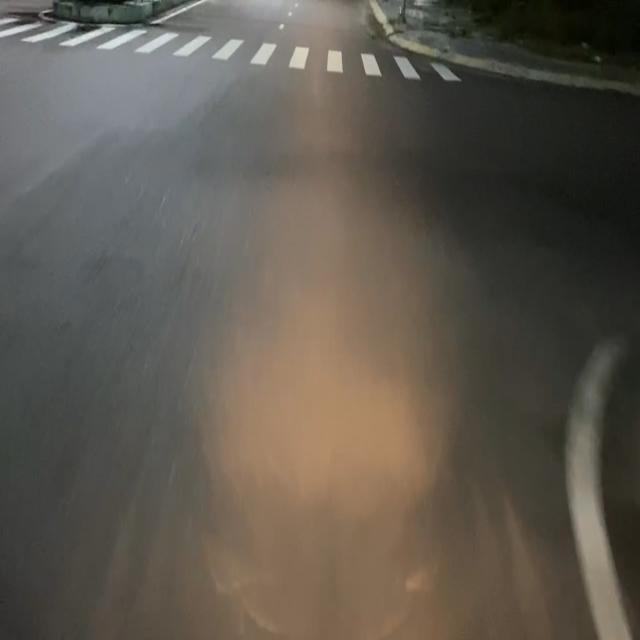walk-crossing: (2, 7, 469, 90)
